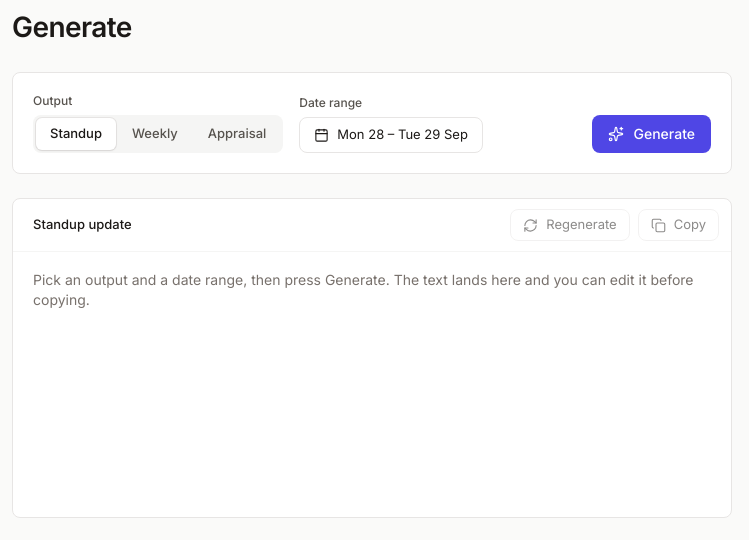
Test: GeneratorPanel › posts the selected type and range, then shows the text in the editable panel
The width and height of the screenshot is (749, 540).
Step 1. Click the button "Generate" → (651, 134), box [592,115,711,153]
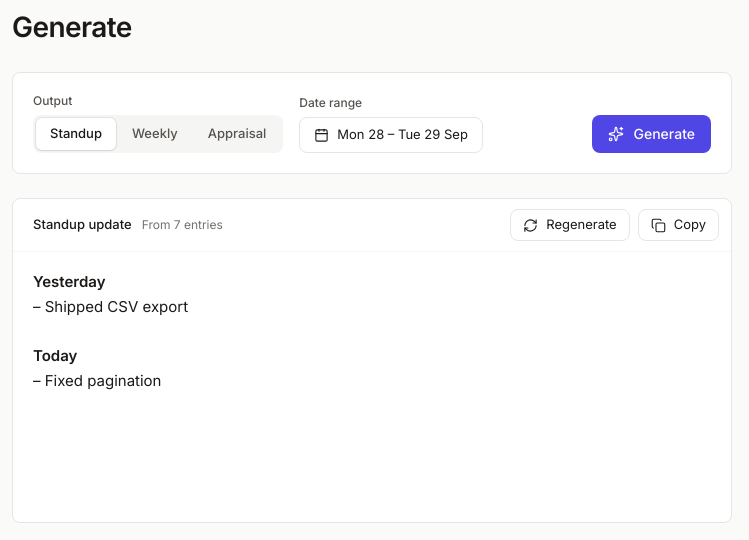
expect the field named "Generated standup update, editable" shows "Shipped CSV export": met, box [33,272,188,390]
expect the number of text boxes is 2: met, box [33,272,106,291]; [33,346,77,365]
expect the text "From 7 entries" is shown: met, box [142,217,223,233]
